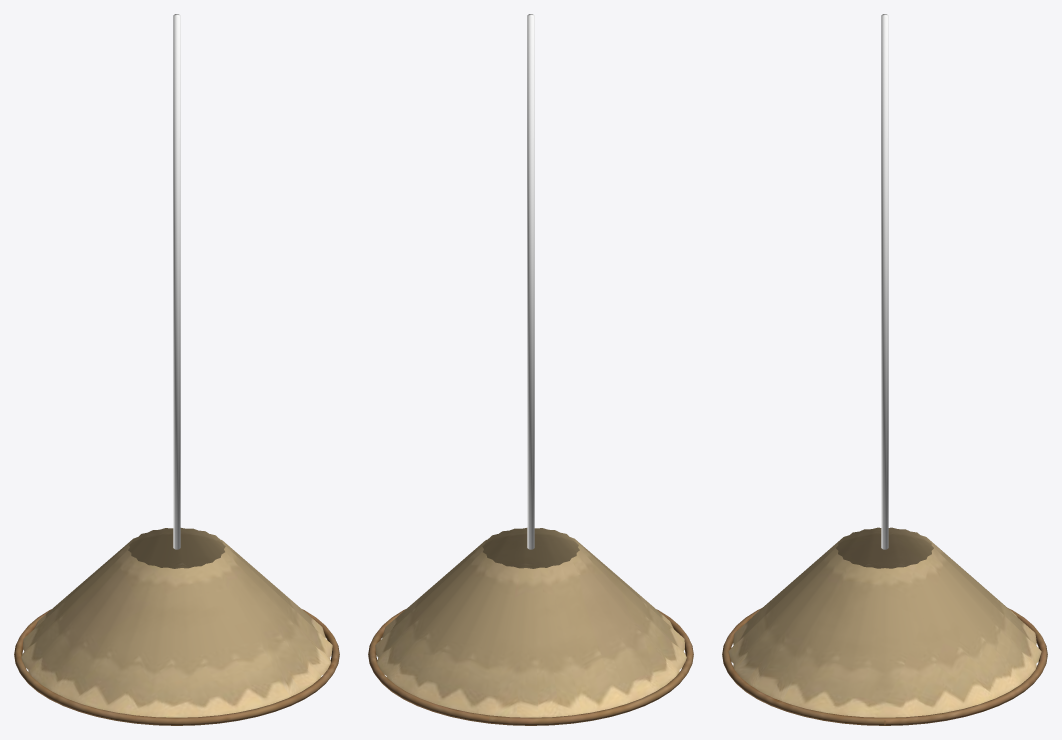
File: pendant_cone.glb
3 renders of one model, left to right at view 1: azimuth 30°, elevation 25°; view 2: azimuth 150°, elevation 25°; view 3: azimuth 270°, elevation 25°, orthographic.
Parts seen in each view (by area): view 1: prop_pendant_cone_paper, pendant_cone_thread_dark.001, prop_pendant_cone_wood; view 2: prop_pendant_cone_paper, pendant_cone_thread_dark.001, prop_pendant_cone_wood; view 3: prop_pendant_cone_paper, pendant_cone_thread_dark.001, prop_pendant_cone_wood.
Boxes of the visible parts, x1,y1,x2,y2 form: prop_pendant_cone_paper: (21,528,332,717); pendant_cone_thread_dark.001: (173,14,180,549); prop_pendant_cone_wood: (14,609,339,725); prop_pendant_cone_paper: (375,528,686,717); pendant_cone_thread_dark.001: (527,14,534,549); prop_pendant_cone_wood: (368,609,693,725); prop_pendant_cone_paper: (728,527,1041,717); pendant_cone_thread_dark.001: (881,14,888,549); prop_pendant_cone_wood: (722,608,1047,725).
Bounding box in the file's own units: 1.11 × 2.41 × 1.11.
4 materials, 3 textured.
